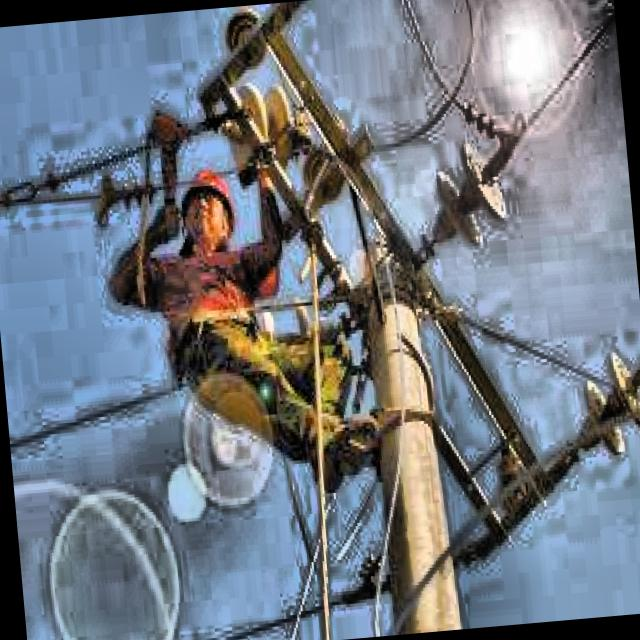helmet: (173, 157, 244, 265)
